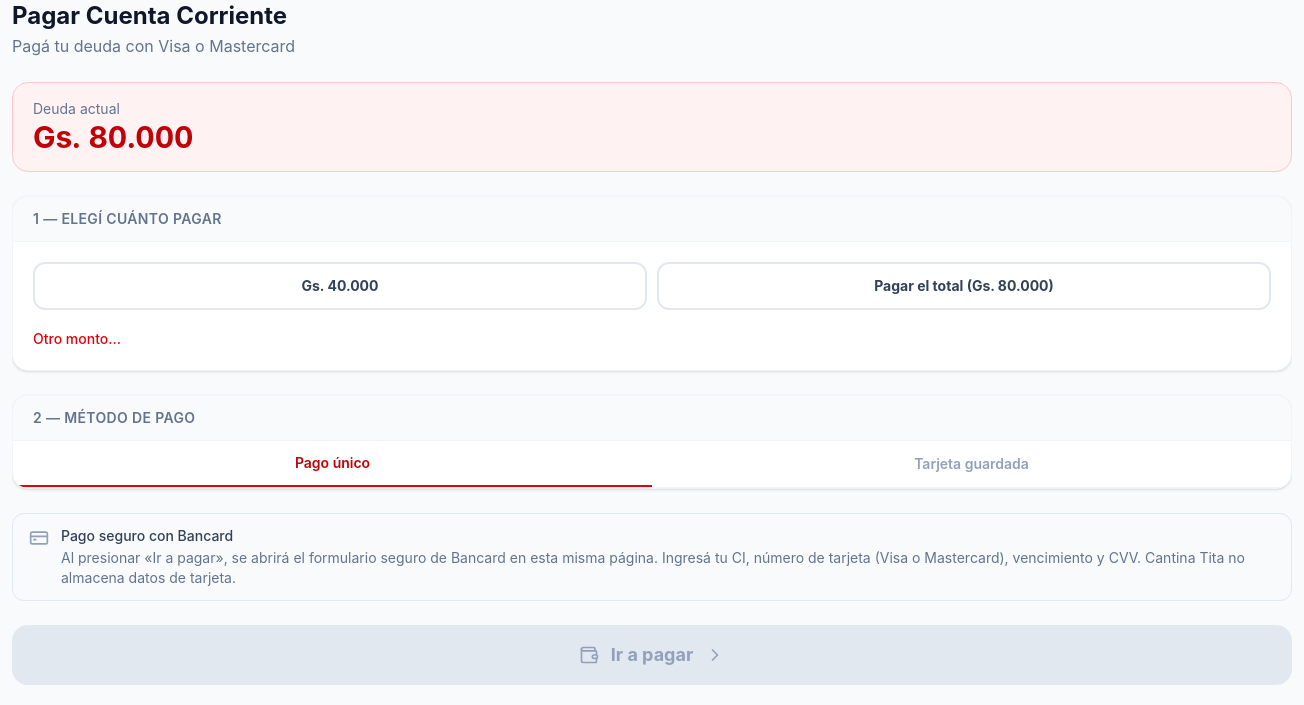
Test: PagarCC — formulario › seleccionar "Pagar el total" habilita el botón "Ir a pagar"
expect the text "Deuda actual" is shown: met, box [33,100,120,117]
expect the button "Ir a pagar" is disabled: met, box [12,625,1292,685]
Click the button "Pagar el total (Gs. 80.000)".
click(964, 286)  # box [657,262,1271,310]
(page scrolled)
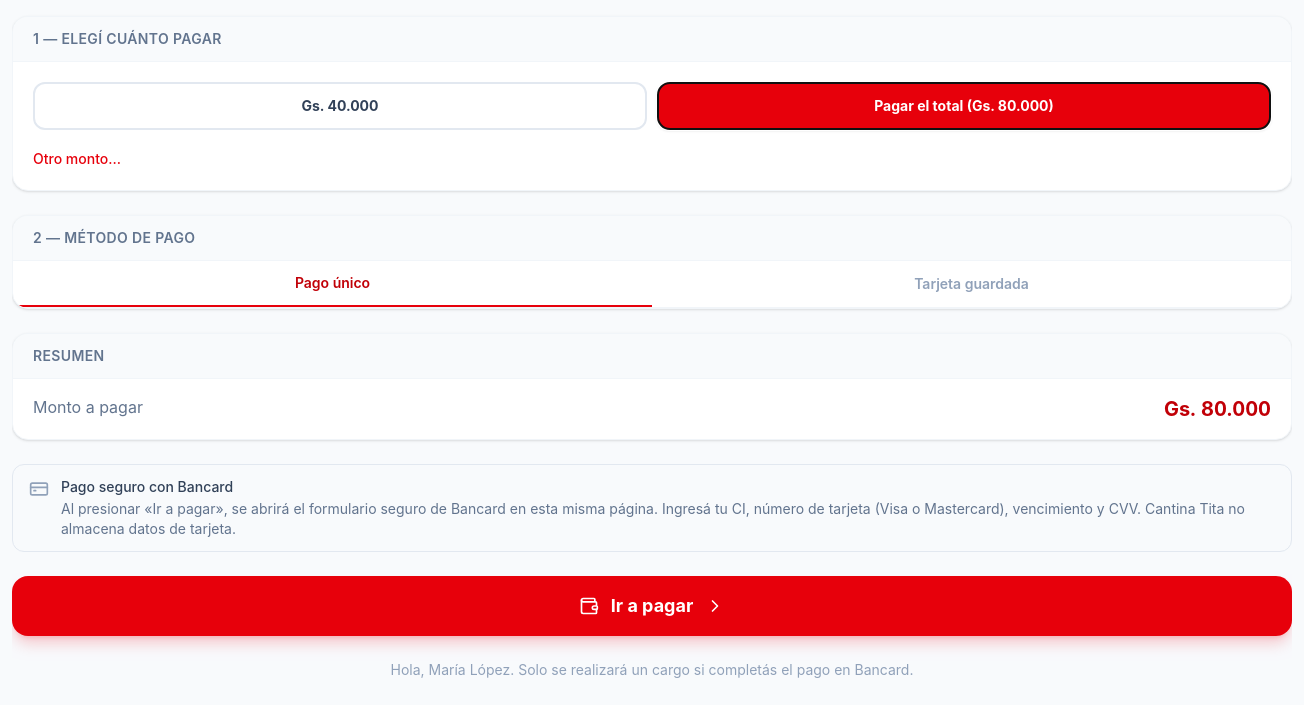
expect the button "Ir a pagar" is enabled: met, box [12,576,1292,636]
